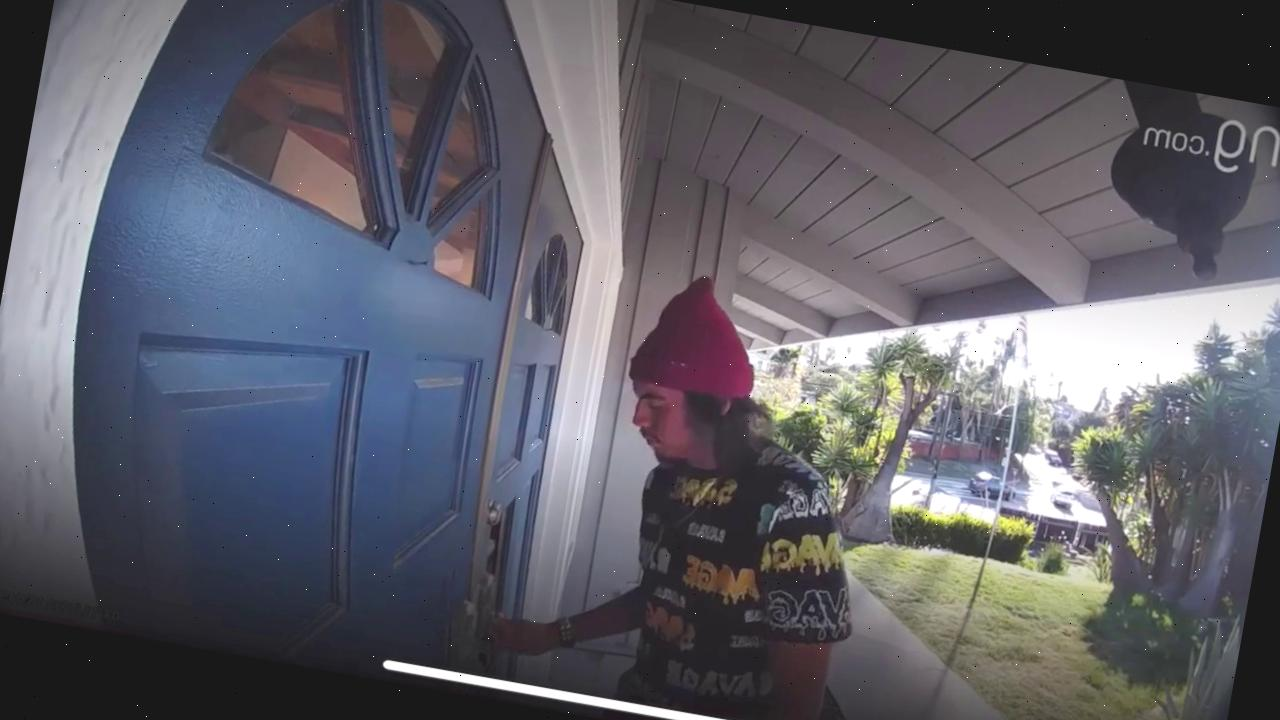suspicion: (436, 195, 960, 720)
